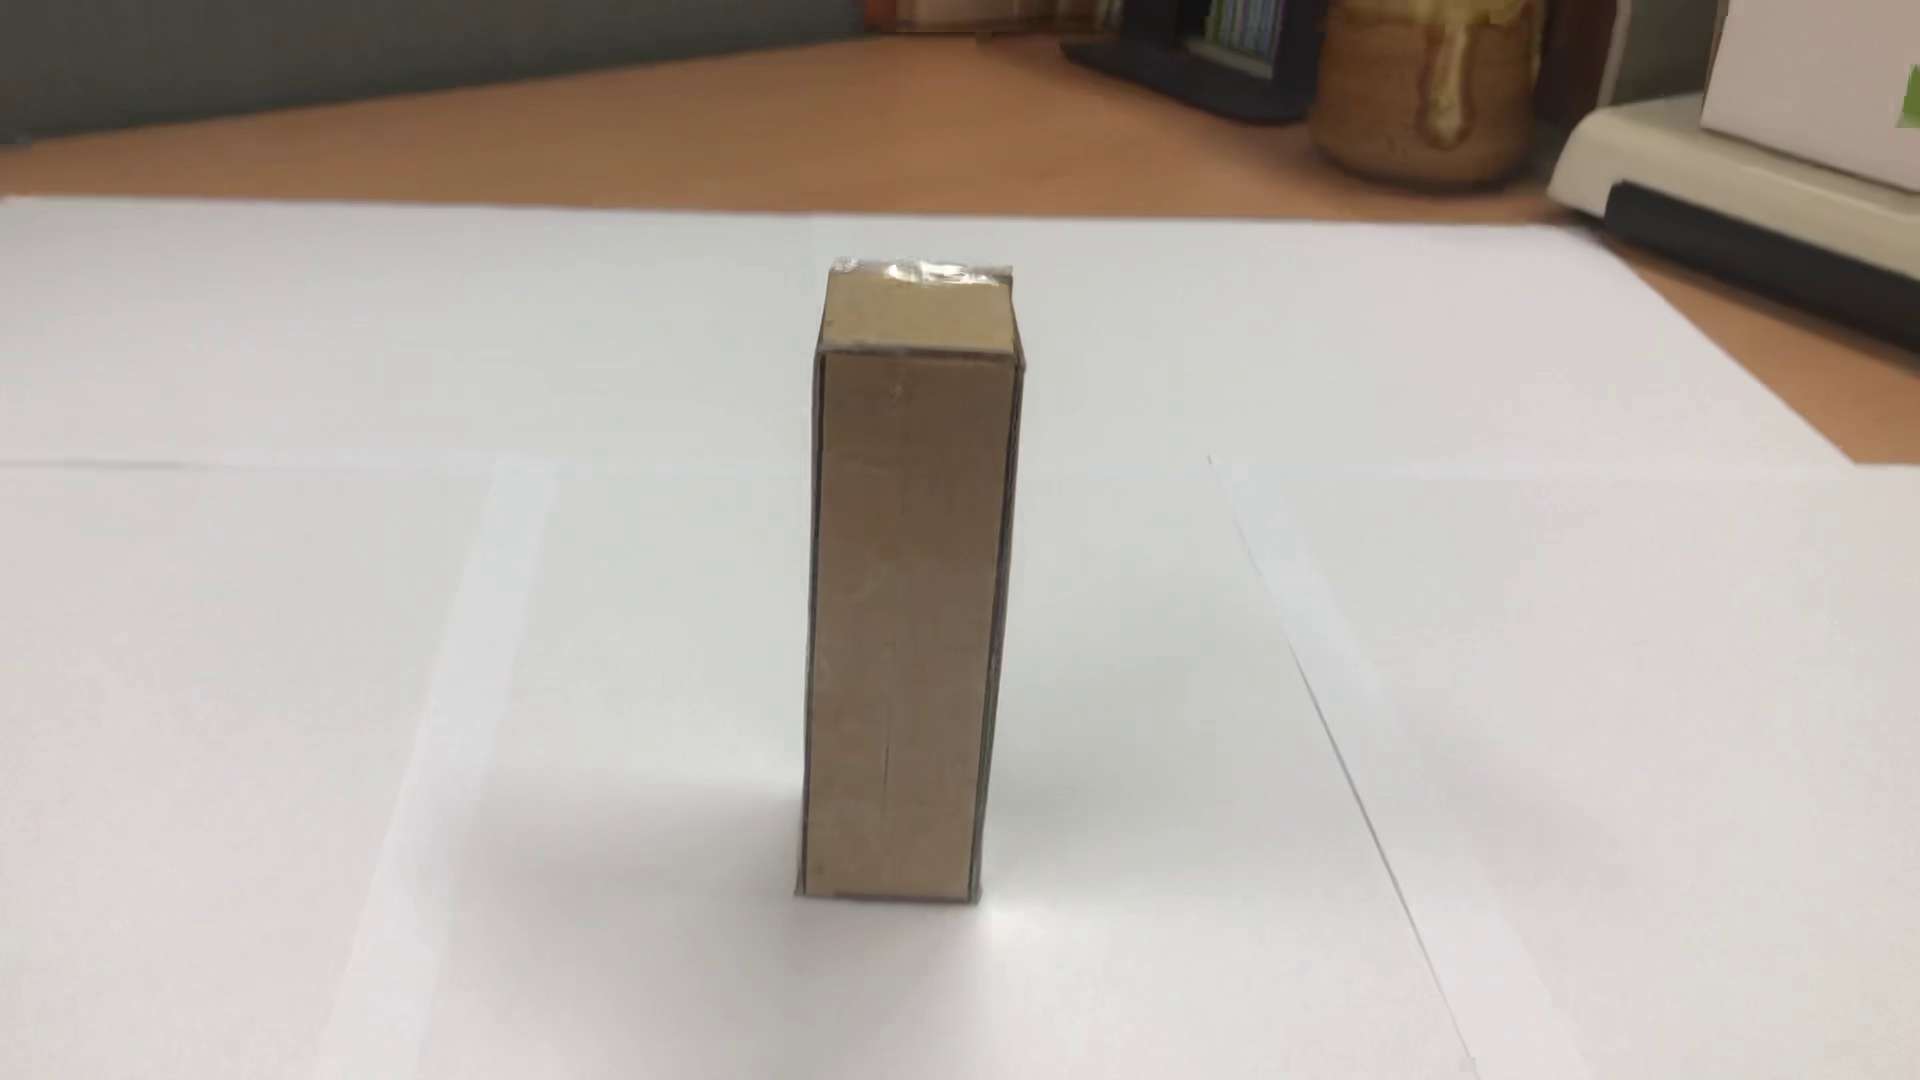box: (752, 239, 1038, 914)
